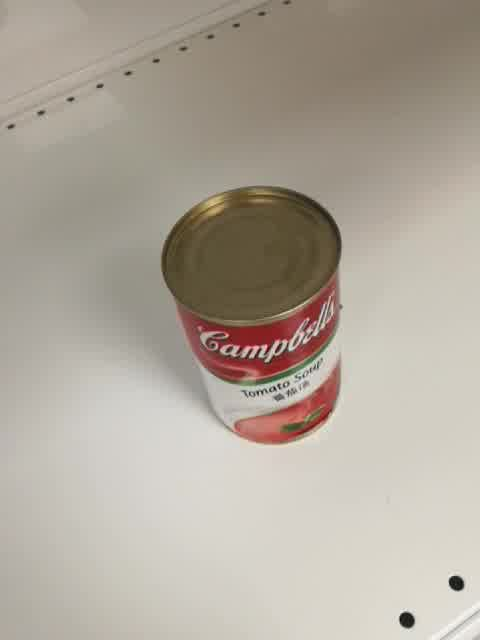tomatosoup: (160, 184, 343, 446)
